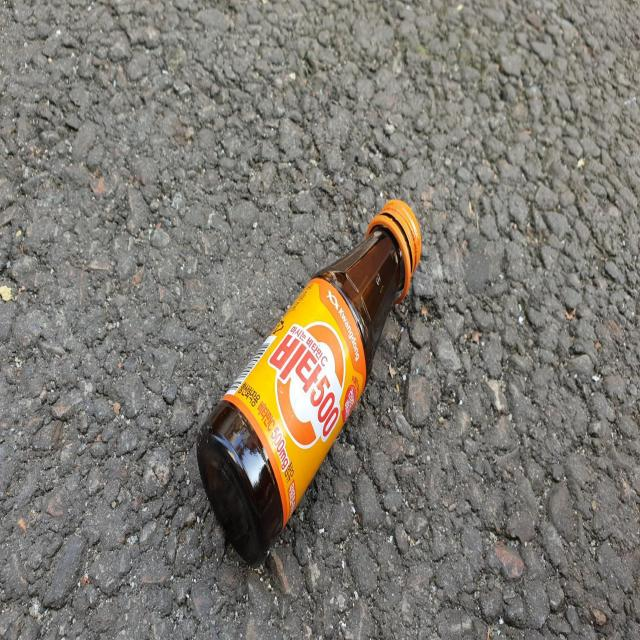glass: (197, 199, 422, 565)
